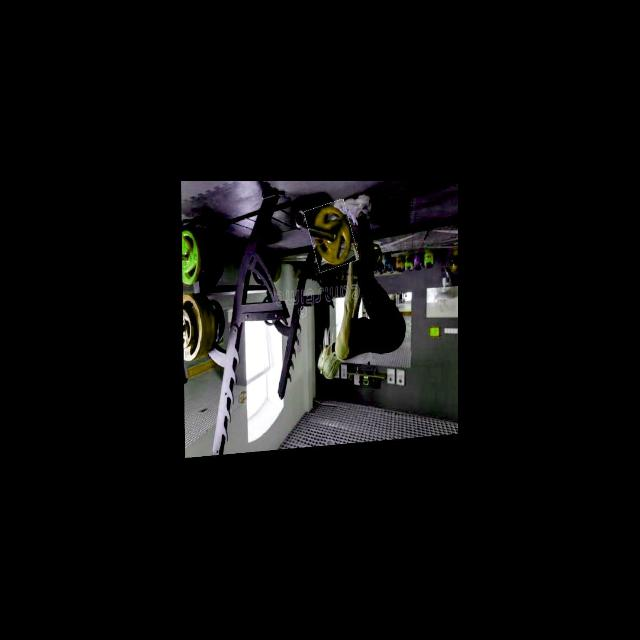barbell: (307, 203, 355, 274)
